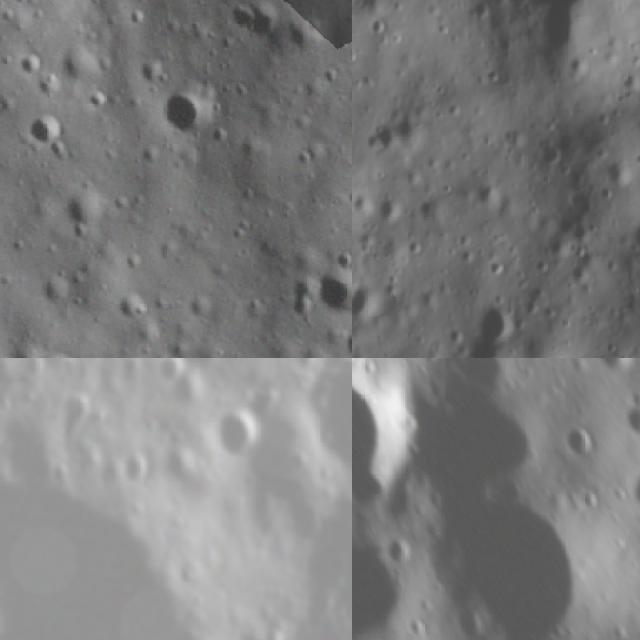crater: (409, 461, 626, 640), (352, 358, 433, 518), (291, 498, 352, 624), (309, 358, 352, 476), (150, 74, 213, 140), (57, 178, 112, 232), (306, 257, 352, 321), (20, 102, 74, 154), (213, 402, 256, 464), (223, 0, 280, 46), (208, 609, 289, 640), (608, 382, 640, 454), (50, 393, 96, 440), (474, 294, 518, 342), (375, 526, 418, 572), (554, 420, 596, 460), (352, 279, 386, 328), (116, 451, 148, 500), (112, 286, 152, 324), (128, 53, 166, 91), (588, 358, 639, 381), (620, 463, 640, 519), (157, 358, 192, 385), (173, 358, 230, 373), (618, 222, 640, 256), (341, 334, 352, 358)
